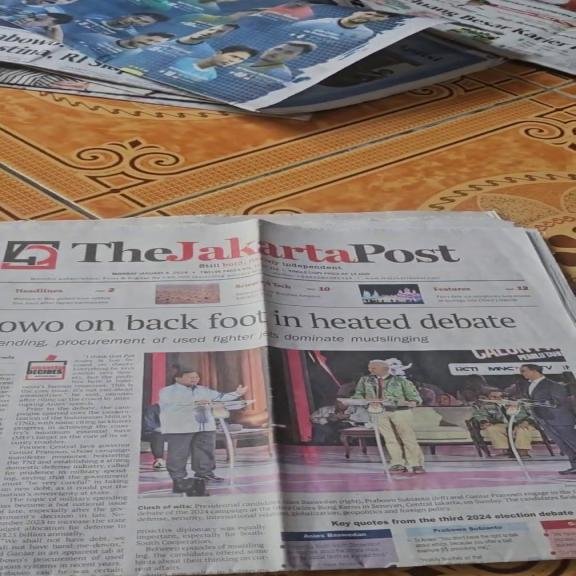Kertas: (4, 221, 564, 574)
